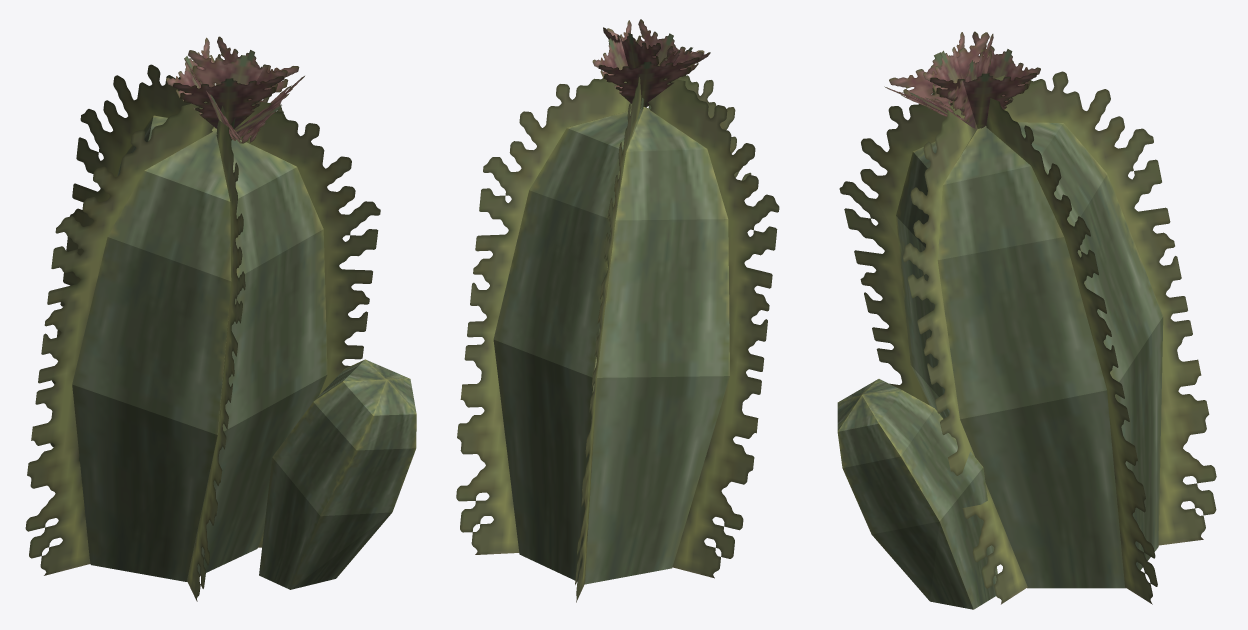
File: C2SNCTSB.obj
The picture shows the model from 3 angles, left to right: view 1: azimuth 30°, elevation 25°; view 2: azimuth 150°, elevation 25°; view 3: azimuth 270°, elevation 25°; orthographic projection. The views are drawn at different scales.
Visible parts, largest first — view 1: Node 0; view 2: Node 0; view 3: Node 0.
Boxes of the visible parts, x1=… form: Node 0: x1=25, y1=36, x2=416, y2=601; Node 0: x1=456, y1=19, x2=779, y2=602; Node 0: x1=837, y1=31, x2=1216, y2=609.
Bounding box in the file's own units: 1.39 × 2.35 × 1.71.
Materials: 1 (1 with a texture image).
